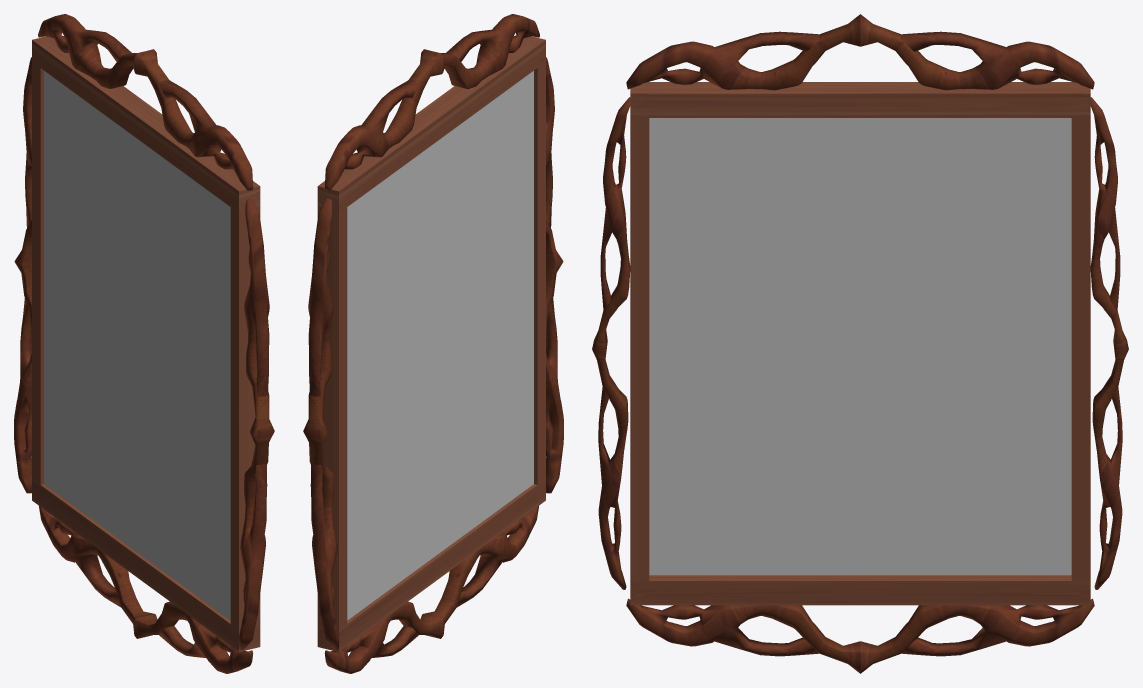
The model's file is Painting.fbx.
The picture shows the model from 3 angles, left to right: view 1: azimuth 30°, elevation 25°; view 2: azimuth 150°, elevation 25°; view 3: azimuth 270°, elevation 25°; orthographic projection. The views are drawn at different scales.
Visible parts, largest first — view 1: Photo, OuterFrames; view 2: Photo, OuterFrames; view 3: Photo, OuterFrames.
Boxes of the visible parts, x1=… form: Photo: x1=44, y1=71, x2=230, y2=620; OuterFrames: x1=14, y1=14, x2=274, y2=673; Photo: x1=347, y1=71, x2=533, y2=620; OuterFrames: x1=303, y1=14, x2=563, y2=673; Photo: x1=649, y1=118, x2=1071, y2=575; OuterFrames: x1=592, y1=14, x2=1128, y2=673.
Bounding box in the file's own units: 0.4043 × 7.5 × 5.61.
